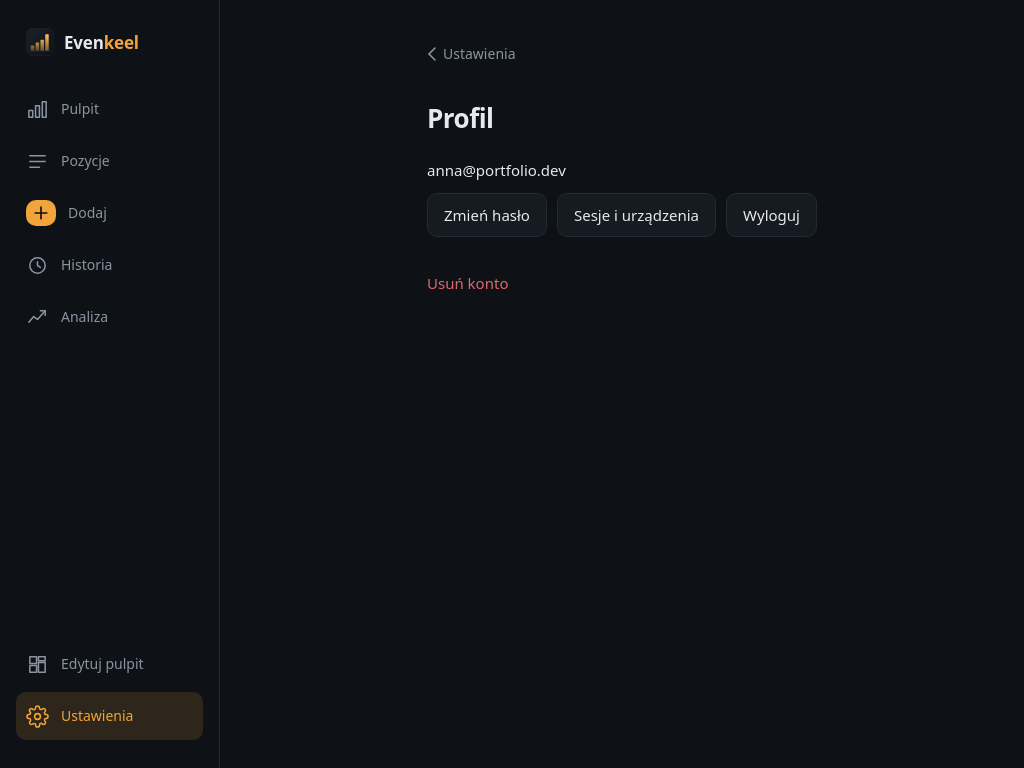
Test: settings screen › signs out to the login screen
The width and height of the screenshot is (1024, 768).
Click the button "Wyloguj" at (771, 215), box [726,193,817,237]
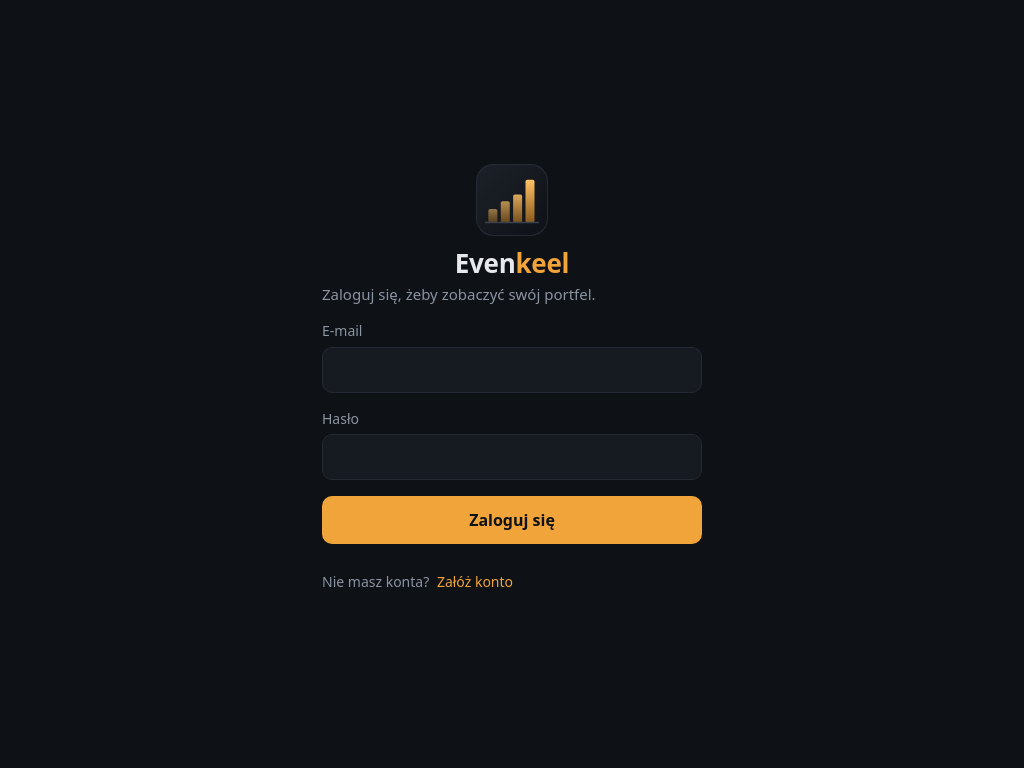
Expected: the button "Zaloguj się" is shown, [322,496,702,544]
